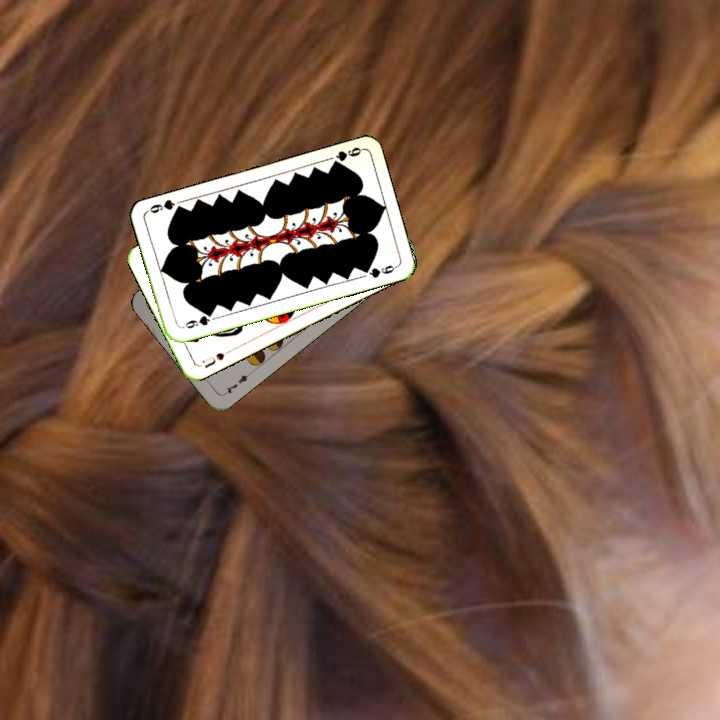E7: (219, 368, 254, 398)
G9: (327, 143, 365, 169), (177, 309, 215, 331)
SU: (196, 346, 234, 370)
